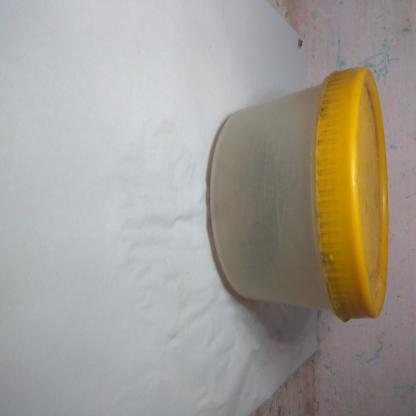bottle: (174, 137, 370, 384)
